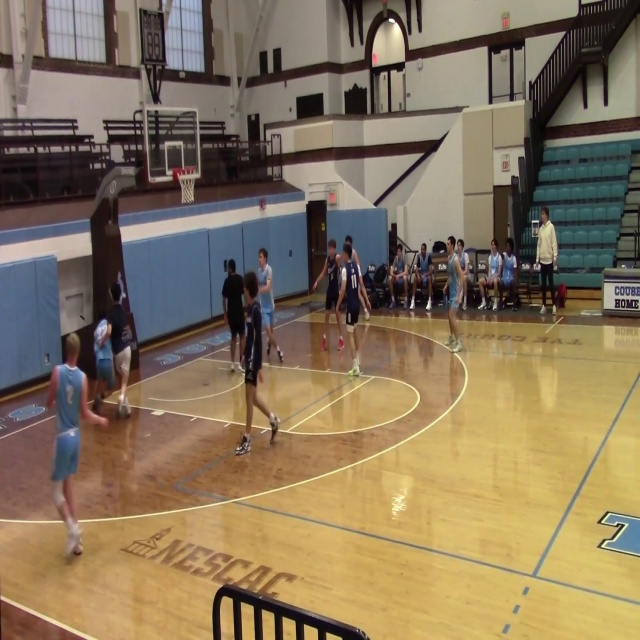Basketball: (337, 336, 344, 350)
